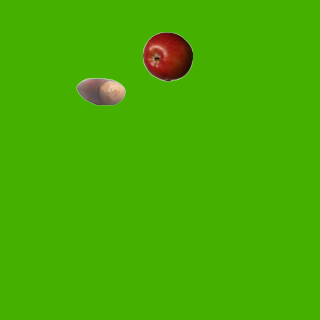Apple Braeburn: (142, 31, 192, 81)
Hazelnut: (75, 66, 125, 116)
